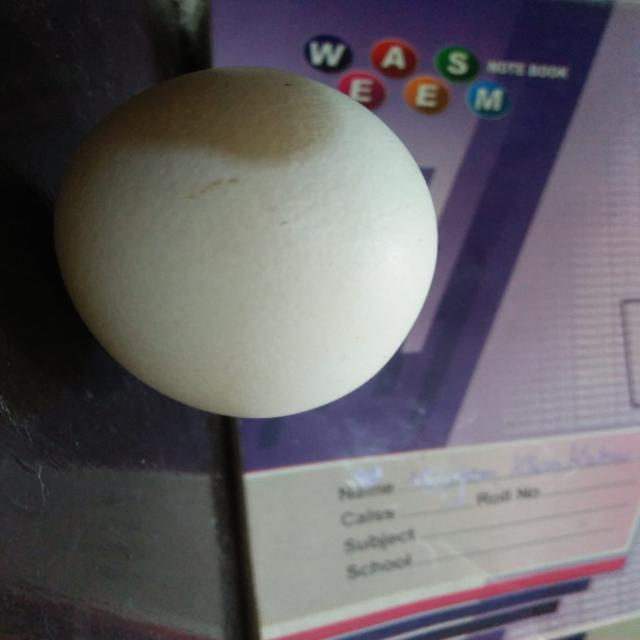Egg: (39, 60, 452, 427)
